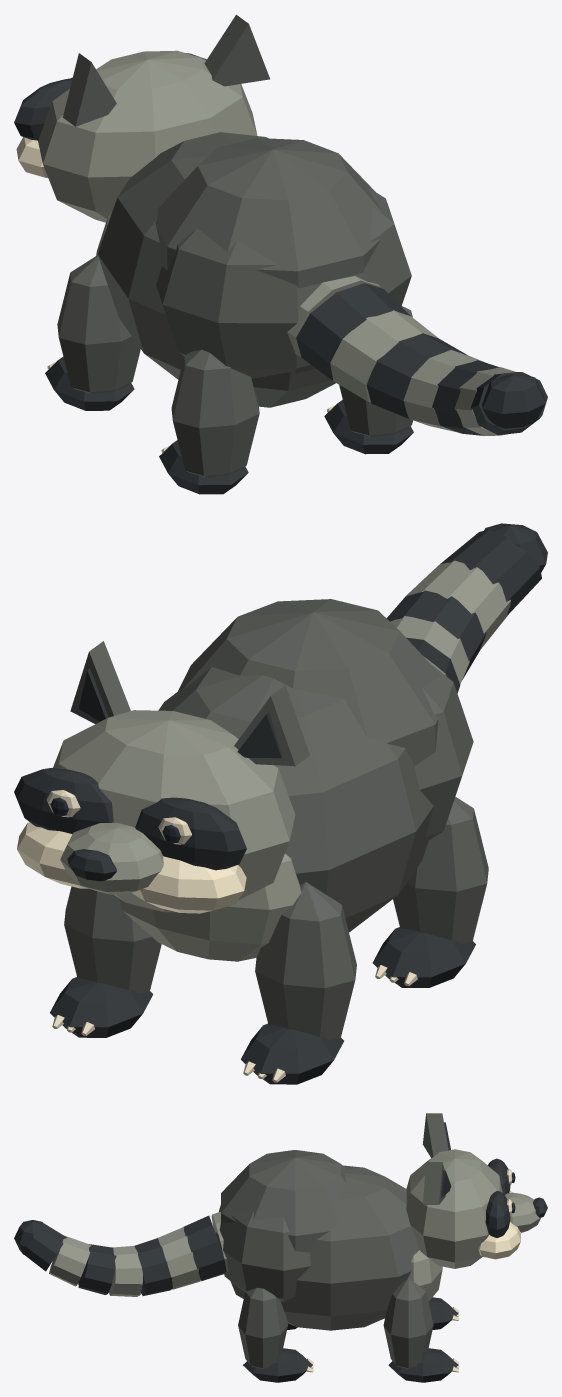
Rendered from raccoon-dark.glb.
3 views of the same model, one above another, from view 1: azimuth 30°, elevation 25°; view 2: azimuth 150°, elevation 25°; view 3: azimuth 270°, elevation 25° (orthographic). The views are drawn at different scales.
Parts seen in each view (by area): view 1: Body, Head, ShoulderRuff, Tail, HindLegL, LegL, HindLegR; view 2: Head, Body, ShoulderRuff, LegL, Tail, HindLegL, LegR; view 3: Body, Head, Tail, ShoulderRuff, LegR, HindLegR, LegL.
Part boxes in pixels (x1,y1,x2,y2): Body: (96,132,411,407); Head: (14,14,269,222); ShoulderRuff: (155,138,383,288); Tail: (287,276,547,435); HindLegL: (159,349,259,494); LegL: (45,255,140,410); HindLegR: (324,306,413,454); Head: (14,641,310,913); Body: (118,664,473,961); ShoulderRuff: (178,599,440,765); LegL: (241,882,356,1084); Tail: (386,523,547,693); HindLegL: (372,797,488,987); LegR: (50,886,161,1037); Body: (215,1165,442,1330); Head: (406,1113,547,1268); Tail: (14,1211,227,1296); ShoulderRuff: (221,1150,346,1252); LegR: (383,1278,459,1382); HindLegR: (238,1287,313,1382); LegL: (428,1297,459,1329).
Bounding box in the file's own units: 0.5456 × 0.703 × 1.58.
